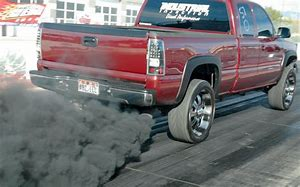smoke: (1, 102, 153, 187)
